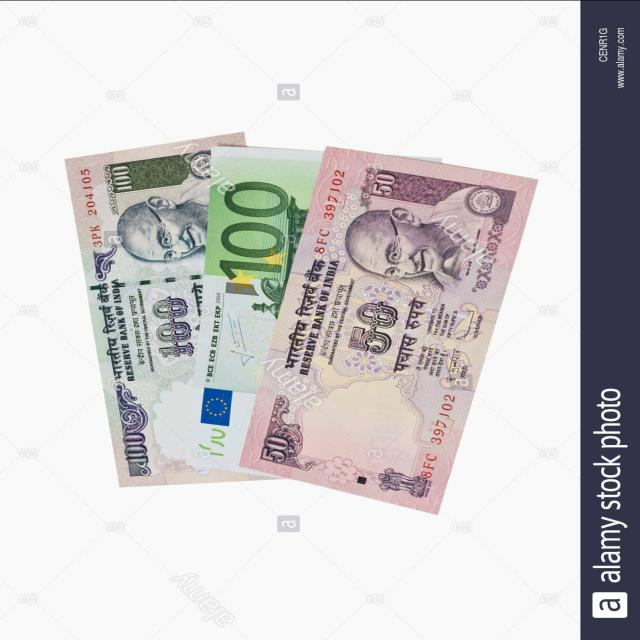100IndianRupees: (66, 132, 245, 487)
